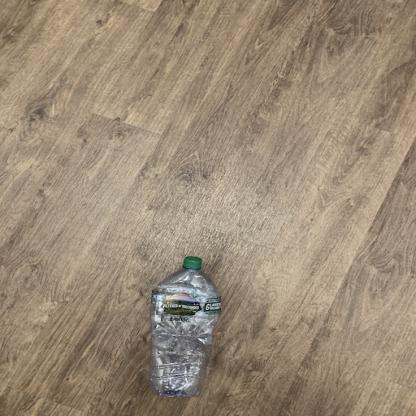trash: (146, 256, 224, 398)
